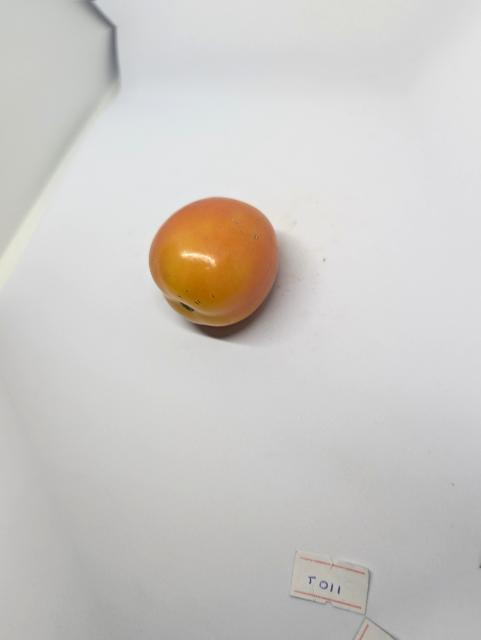turning: (136, 197, 299, 334)
